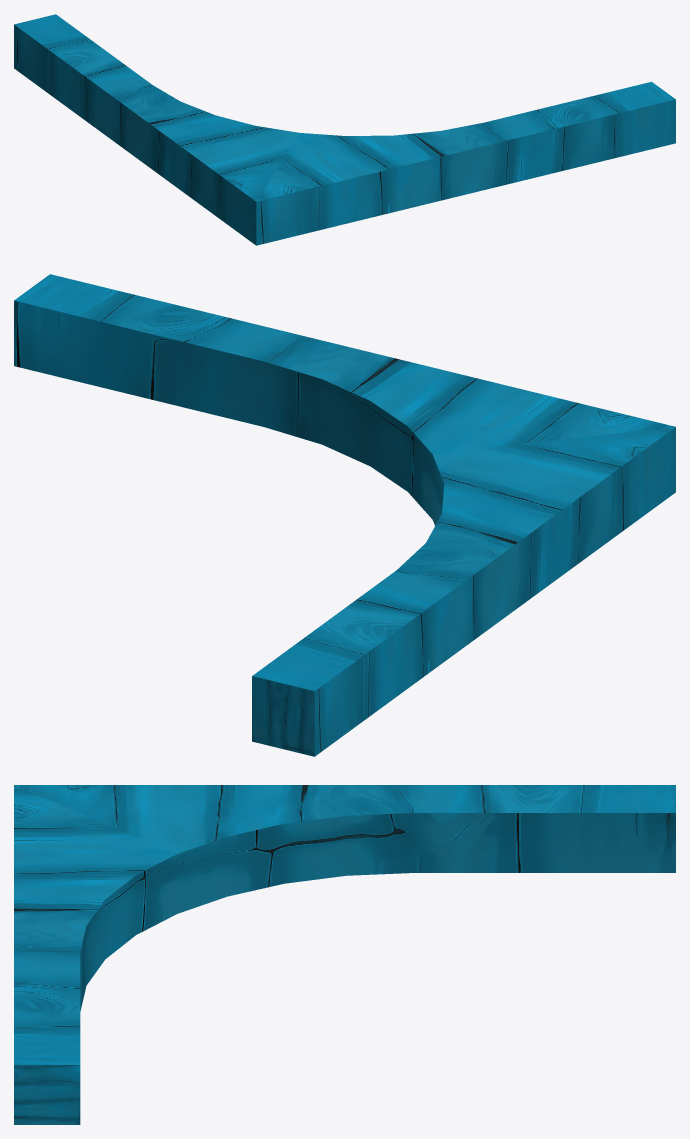
The model's file is M_Tile_Wall_Corner_Rounded_1.fbx.
The picture shows the model from 3 angles, top to bottom: view 1: azimuth 30°, elevation 25°; view 2: azimuth 150°, elevation 25°; view 3: azimuth 270°, elevation 25°; orthographic projection. The views are drawn at different scales.
Visible parts, largest first — view 1: Tile_Wall_Corner_2; view 2: Tile_Wall_Corner_2; view 3: Tile_Wall_Corner_2.
Boxes of the visible parts, <box> form: Tile_Wall_Corner_2: <box>14,14,675,245</box>; Tile_Wall_Corner_2: <box>14,274,675,756</box>; Tile_Wall_Corner_2: <box>14,785,675,1124</box>.
Size of the model in its own units: 100 by 10 by 100.
